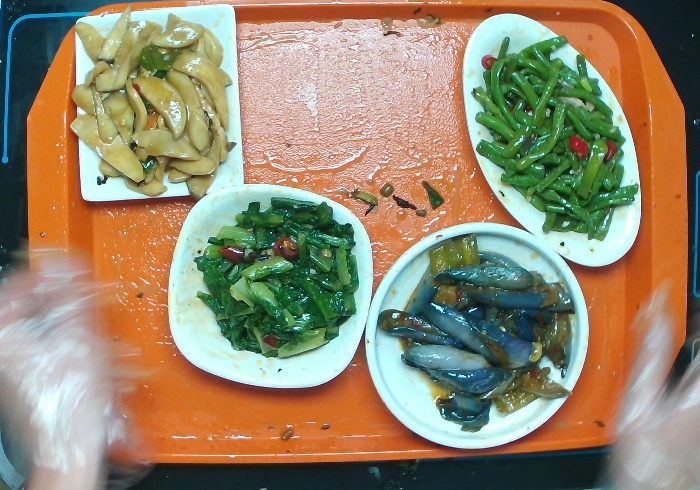HZYJPL-Si_Fang_Die: (69, 1, 251, 208)
HZYJPL-Si_Fang_Yuan_Die: (164, 181, 377, 396)
HZYJPL-Xiao_Yu_Die: (451, 7, 646, 279)
HZYJPL-Xiao_Yuan_Die: (352, 220, 598, 451)
